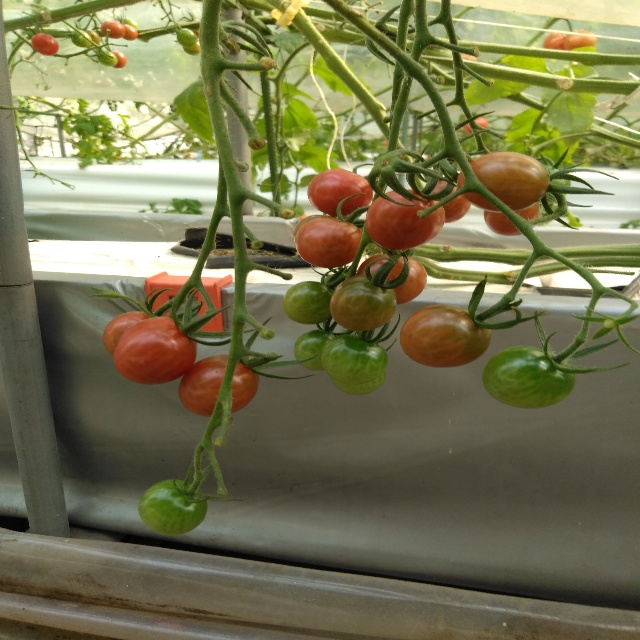l_fully_ripened: (113, 316, 198, 385), (366, 188, 446, 251), (306, 169, 372, 217)
l_green: (483, 346, 576, 410), (136, 479, 207, 537), (320, 334, 388, 386), (282, 281, 335, 325), (294, 330, 338, 371), (332, 373, 385, 396)
l_half_ripened: (398, 304, 492, 367), (457, 152, 550, 214), (177, 354, 260, 418), (329, 275, 398, 331), (356, 254, 427, 306), (295, 216, 363, 269), (104, 311, 160, 357), (424, 177, 471, 224), (484, 202, 540, 236)
